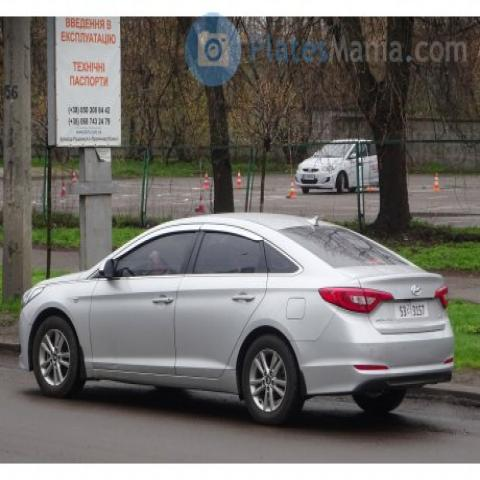LP: (385, 289, 437, 329)
